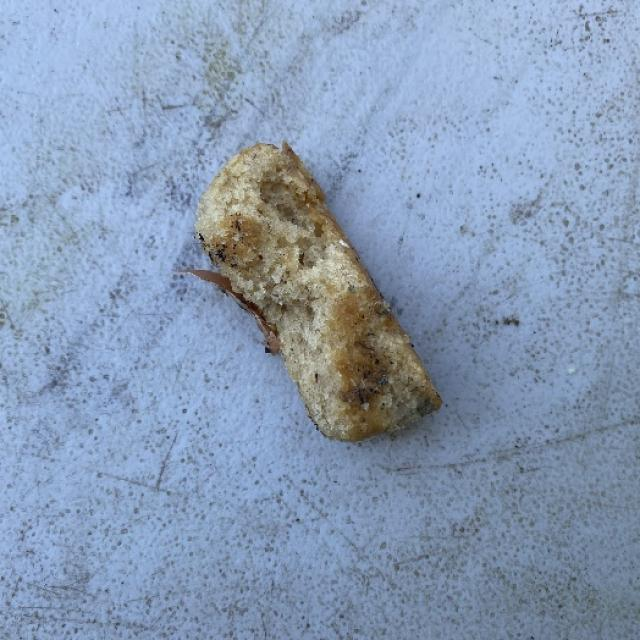organic: (186, 127, 464, 470)
